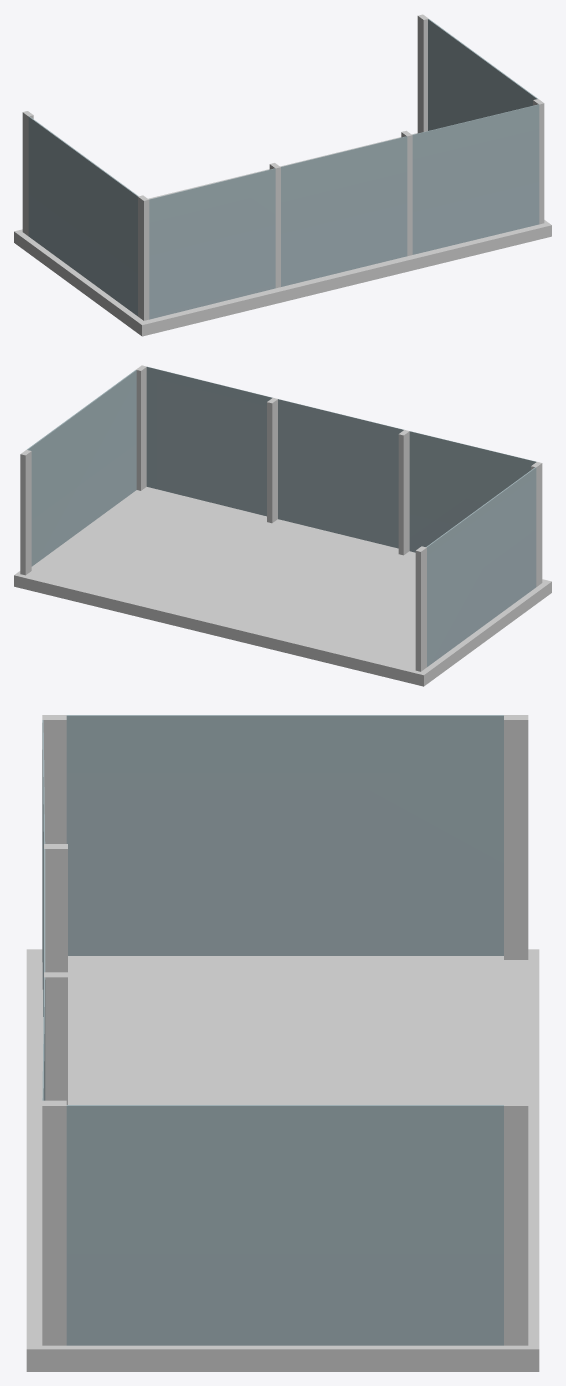
Rendered from extension of balconies.fbx.
3 views of the same model, one above another, from view 1: azimuth 30°, elevation 25°; view 2: azimuth 150°, elevation 25°; view 3: azimuth 270°, elevation 25° (orthographic). The views are drawn at different scales.
Visible parts, largest first — view 1: Cube.143; view 2: Cube.143; view 3: Cube.143.
Part boxes in pixels (x1=…): Cube.143: x1=14, y1=14, x2=551, y2=336; Cube.143: x1=14, y1=365, x2=551, y2=686; Cube.143: x1=26, y1=715, x2=539, y2=1371.
Bounding box in the file's own units: 550 × 168 × 298.
